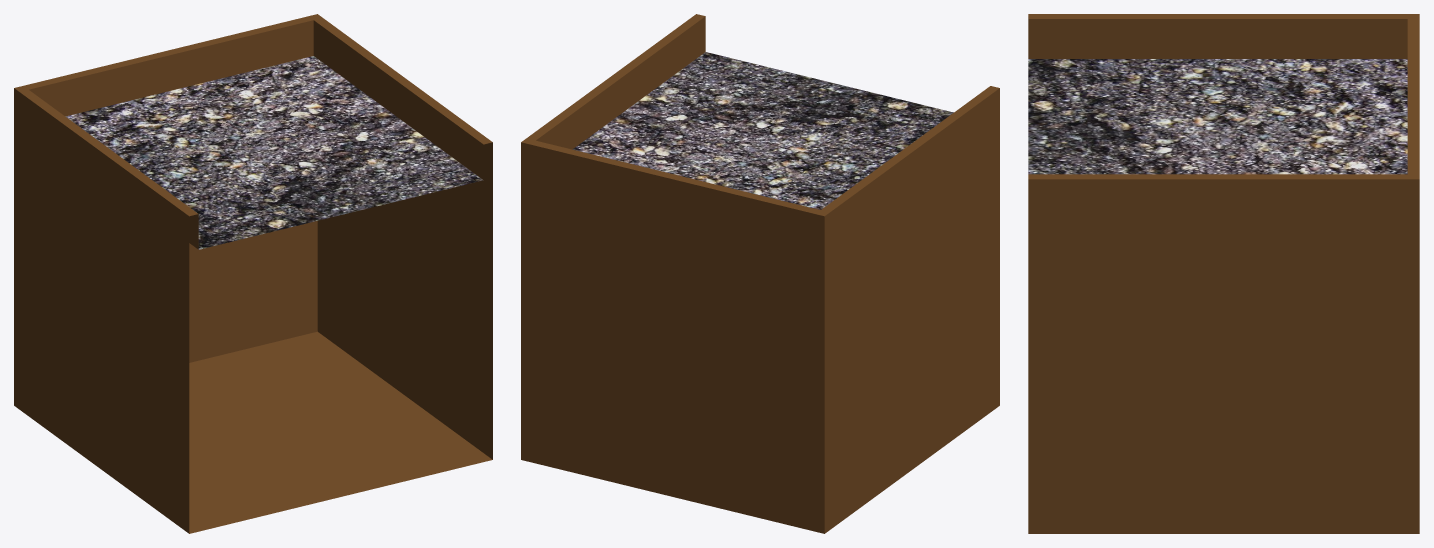
The model's file is plant_base_end.fbx.
3 views of the same model, side by side, from view 1: azimuth 30°, elevation 25°; view 2: azimuth 150°, elevation 25°; view 3: azimuth 270°, elevation 25° (orthographic). The views are drawn at different scales.
Visible parts, largest first — view 1: plant_base_end; view 2: plant_base_end; view 3: plant_base_end.
Boxes of the visible parts, box(x1,y1,x2,y2) form: plant_base_end: box(14, 14, 492, 533); plant_base_end: box(521, 14, 999, 533); plant_base_end: box(1028, 14, 1419, 533).
Size of the model in its own units: 1 by 1 by 1.
